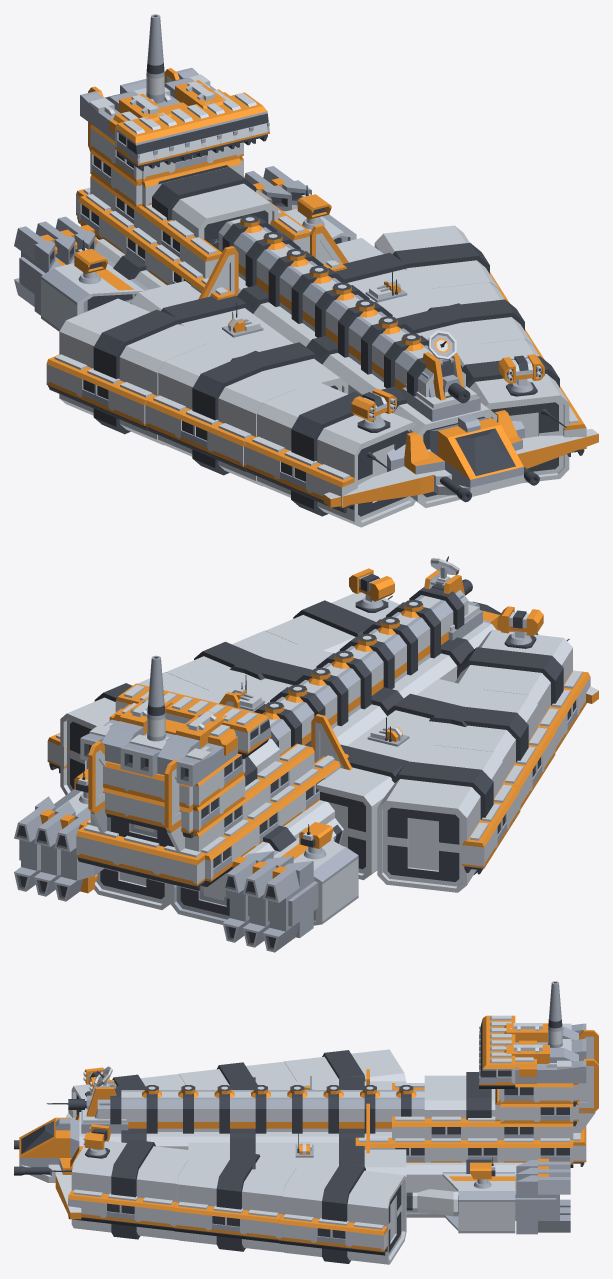
The model's file is croiseur_lourd_1.glb.
The picture shows the model from 3 angles, top to bottom: view 1: azimuth 30°, elevation 25°; view 2: azimuth 150°, elevation 25°; view 3: azimuth 270°, elevation 25°; orthographic projection. The views are drawn at different scales.
Visible parts, largest first — view 1: mergedBlocks(Clone); view 2: mergedBlocks(Clone); view 3: mergedBlocks(Clone).
Part boxes in pixels (bbox=[...]): mergedBlocks(Clone): bbox=[14, 14, 598, 527]; mergedBlocks(Clone): bbox=[14, 556, 598, 952]; mergedBlocks(Clone): bbox=[14, 981, 598, 1264].
Bounding box in the file's own units: 10.88 × 6.4 × 16.1.
1 material, 1 textured.
